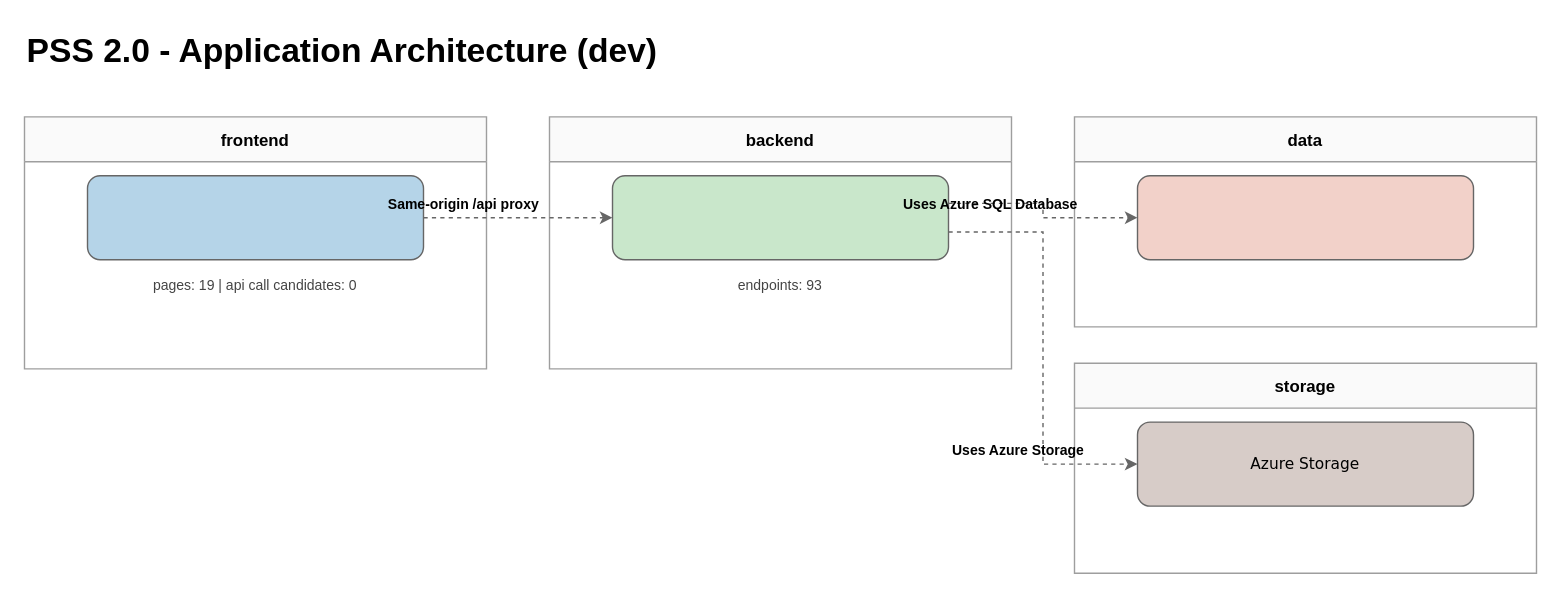
This 1561x598 diagram has some shape labels left out. The centre of each missing label's shape, as x and y in pixels:
"Angular UI" goes at (255,217).
"ASP.NET Core API" goes at (779,217).
"Azure SQL Database" goes at (1305,217).
